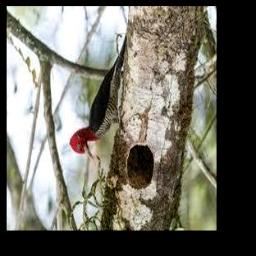Woodpecker: (70, 34, 127, 164)
